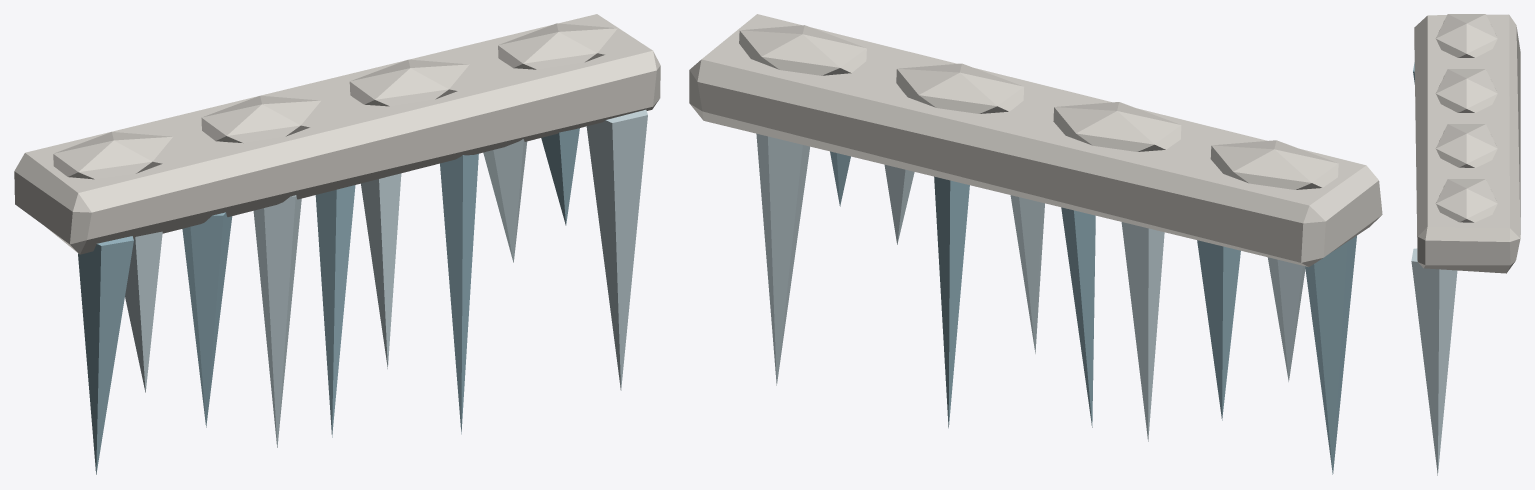
File: sb_icicles.glb
3 renders of one model, left to right at view 1: azimuth 30°, elevation 25°; view 2: azimuth 150°, elevation 25°; view 3: azimuth 270°, elevation 25°, orthographic. The views are drawn at different scales.
Visible parts, largest first — view 1: icicles; view 2: icicles; view 3: icicles.
Part boxes in pixels (x1,y1,x2,y2): icicles: (14,14,660,474); icicles: (689,14,1382,474); icicles: (1411,14,1520,475).
Size of the model in its own units: 1.01 by 0.5799 by 0.2096.
